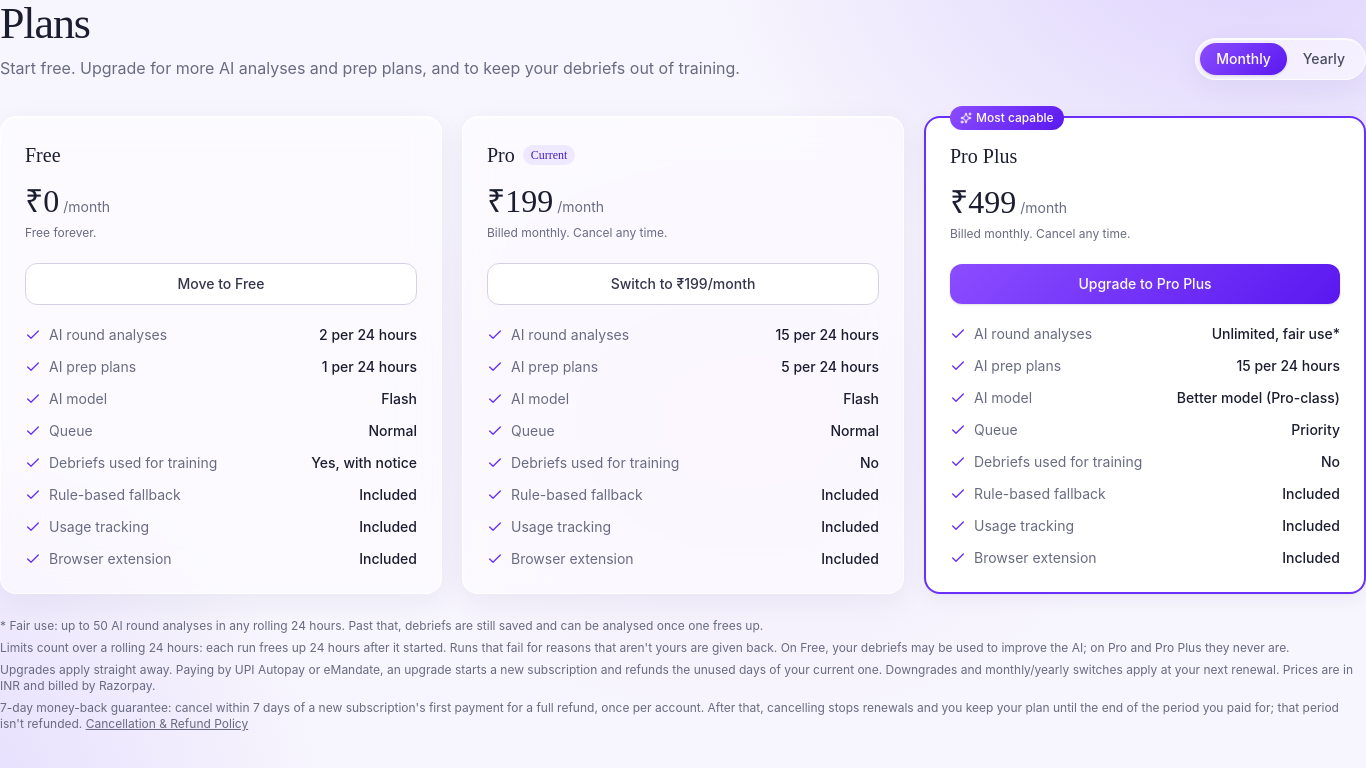
it: pricing page › doesn't offer an upgrade whose credit couldn't be refunded
This screenshot has width=1366, height=768.
Check: the heading "Pro Plus" is shown, box [950,145,1017,167]
Click the button "Upgrade to Pro Plus": (1145, 284) [950,264,1340,304]
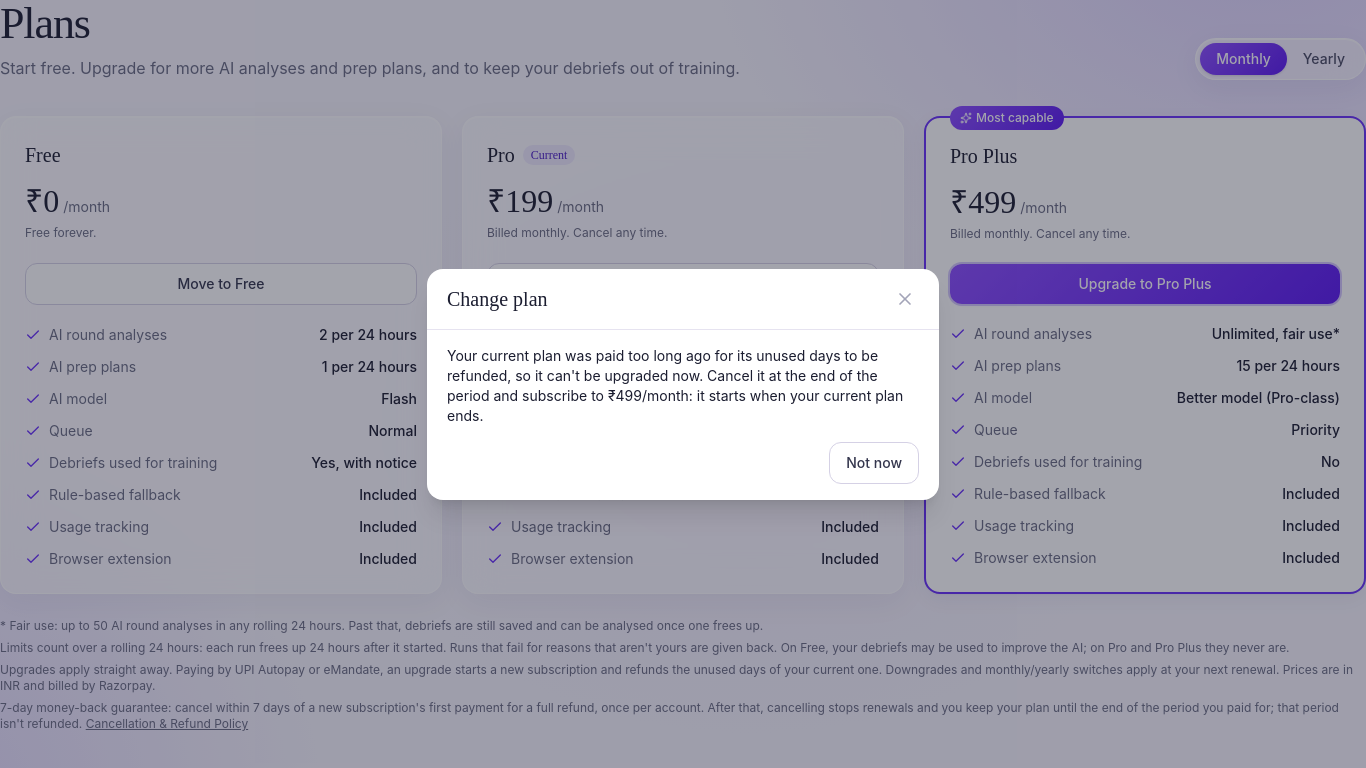
Check: the text "paid too long ago" is shown, box [447,346,878,404]
